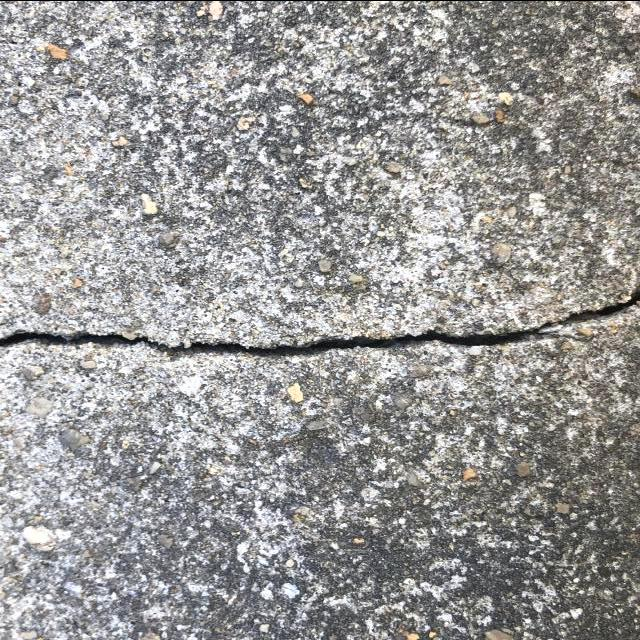SurfaceCrack: (0, 234, 639, 414)
